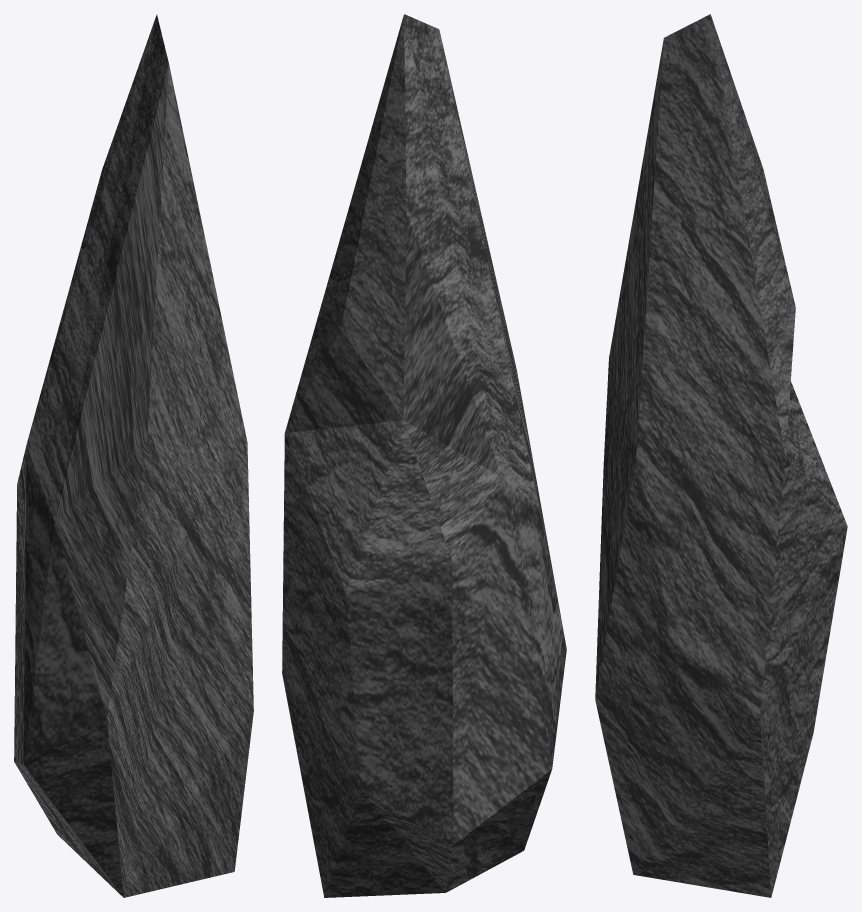
The model's file is pointyrock.fbx.
3 renders of one model, left to right at view 1: azimuth 30°, elevation 25°; view 2: azimuth 150°, elevation 25°; view 3: azimuth 270°, elevation 25°, orthographic.
Parts seen in each view (by area): view 1: pointyrock; view 2: pointyrock; view 3: pointyrock.
Part boxes in pixels (box(x1,y1,x2,y2)): pointyrock: box(14, 14, 253, 897); pointyrock: box(282, 14, 566, 897); pointyrock: box(595, 14, 847, 897).
Bounding box in the file's own units: 406 × 1418 × 377.
